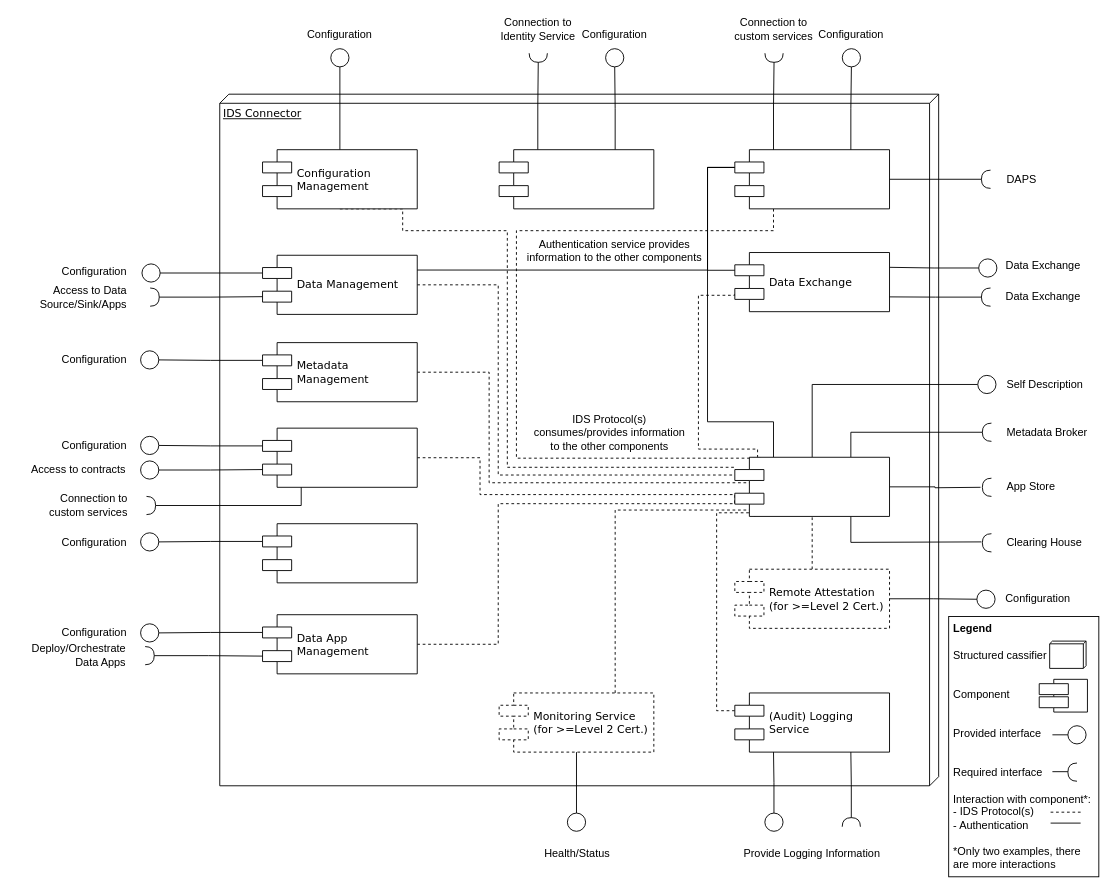
Image size: 1115x893. Some labels were removed from this diagram. Here are the shapes that lost their labels. From the top down, the centre of each, then its label:
the point at 576,179: User Management
the point at 812,179: Authentication service
the point at 339,457: Contract Management
the point at 812,486: IDS Protocol(s)
the point at 339,553: Policy Engine (PAP, PEP, PIP, PXP, PMP, PDP)
